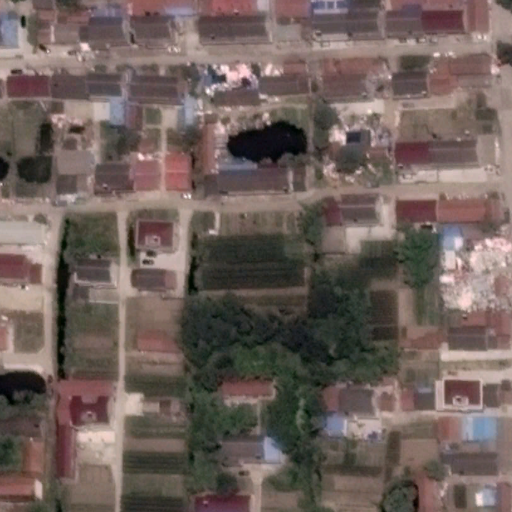msw: (441, 233, 511, 314), (192, 58, 276, 91)
